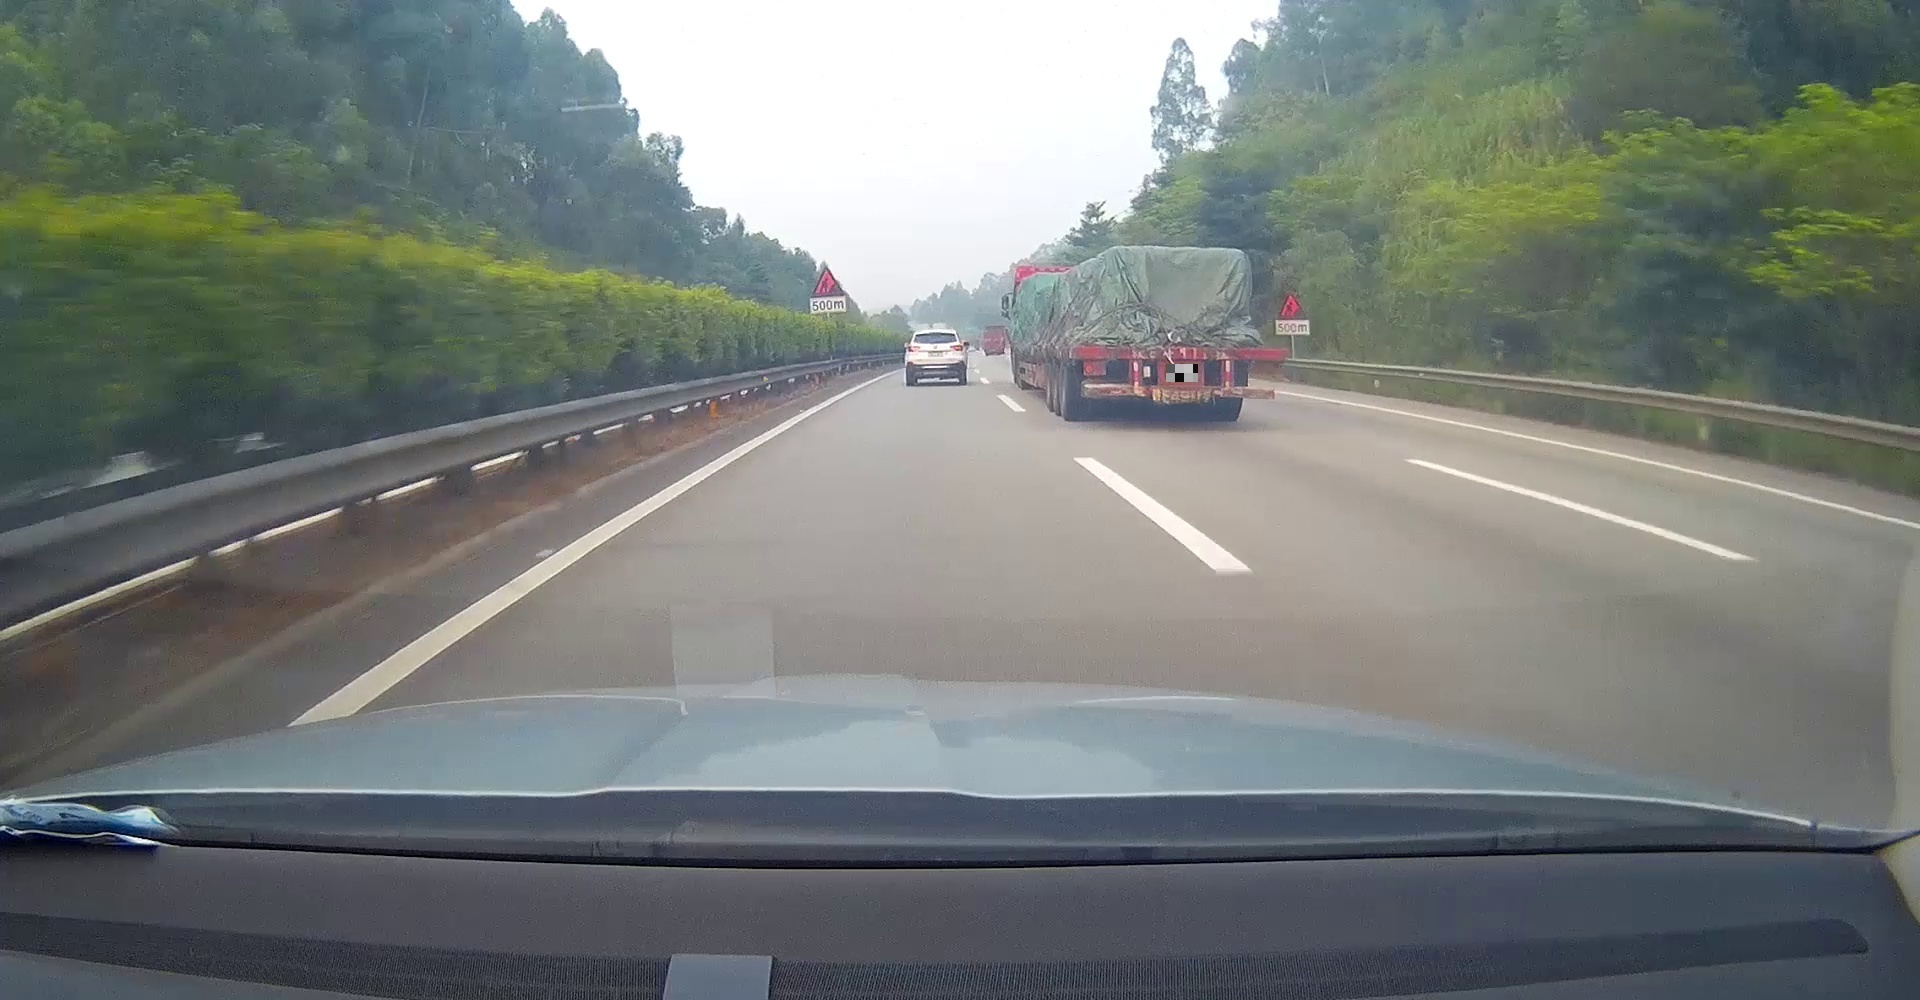L_light: (1083, 360, 1107, 376), (907, 345, 919, 352)
R_light: (1257, 360, 1277, 376), (950, 345, 964, 352)
T_light: (1175, 349, 1201, 357), (930, 332, 942, 335)
day-no: (1069, 345, 1290, 423), (905, 327, 968, 385)
plate_1: (1166, 364, 1197, 382)
